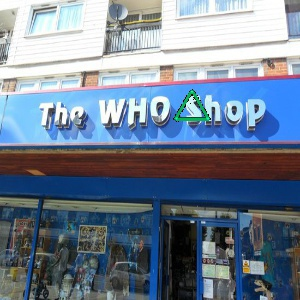triangle: (173, 87, 213, 125)
